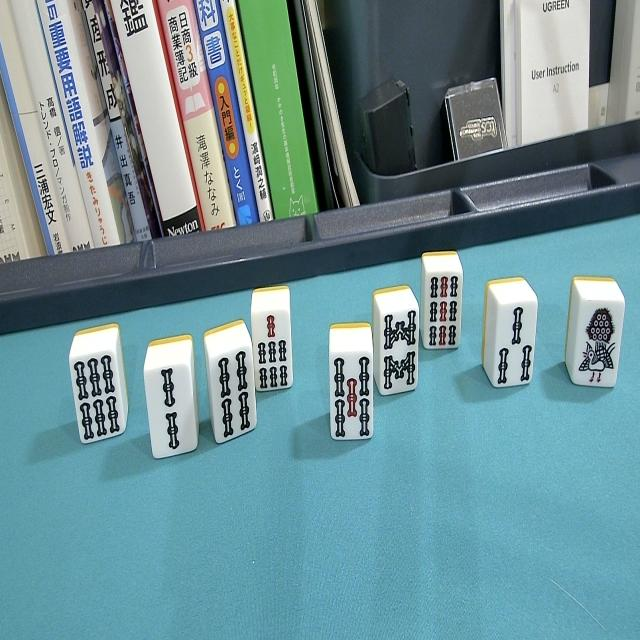1_sou: (564, 274, 626, 398)
2_sou: (142, 338, 200, 466)
3_sou: (482, 279, 539, 395)
4_sou: (215, 325, 259, 444)
5_sou: (327, 322, 377, 449)
6_sou: (70, 324, 130, 449)
7_sou: (250, 284, 296, 396)
8_sou: (373, 287, 423, 401)
9_sou: (421, 251, 464, 356)
